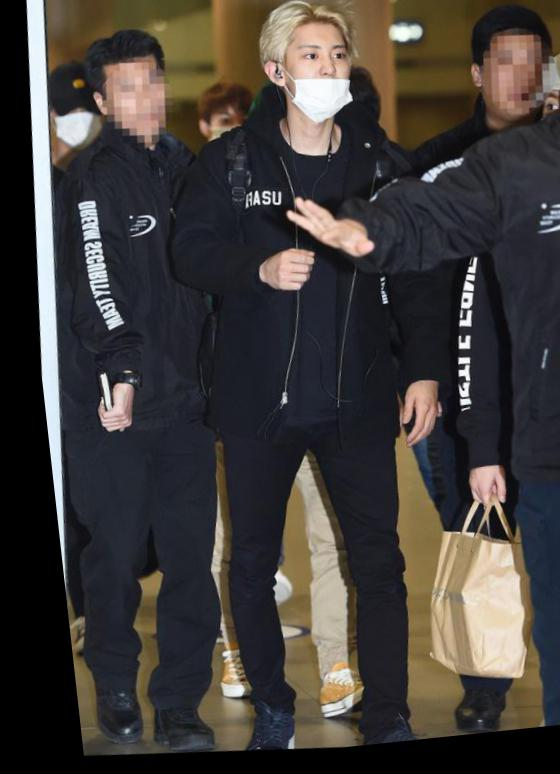NONE: (559, 37, 560, 136)
OK: (46, 94, 102, 156)
WRONG: (263, 41, 353, 131)
